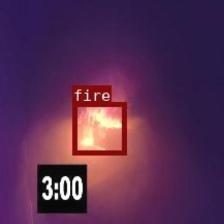fire: (72, 102, 125, 154)
